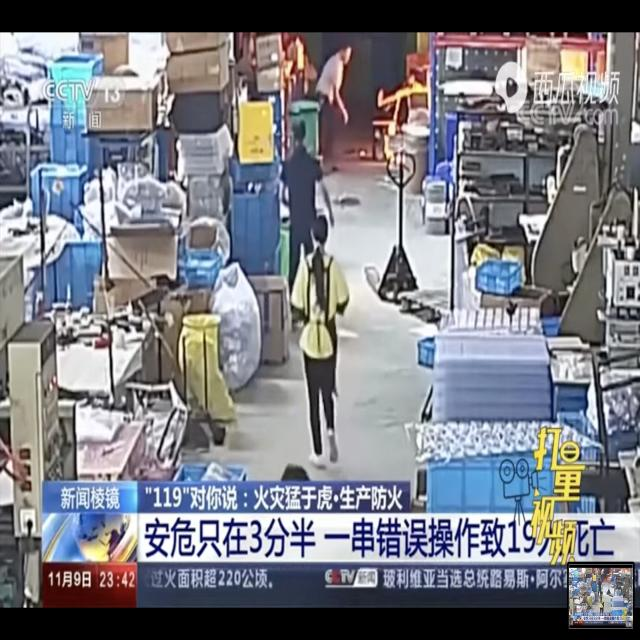Atencao: (312, 34, 448, 182)
